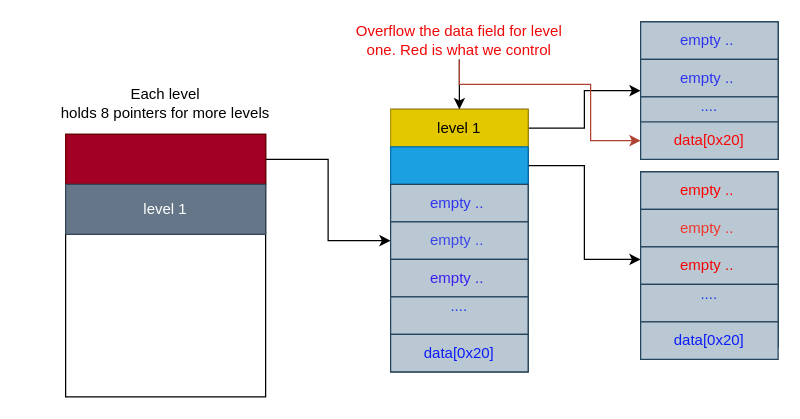
Image size: 800x419. Some labels were removed from this diagram. Here are the shapes that lost their labels. From the top down, the centre of each, then its label:
[165,158]: level 0
[458,165]: level 2
